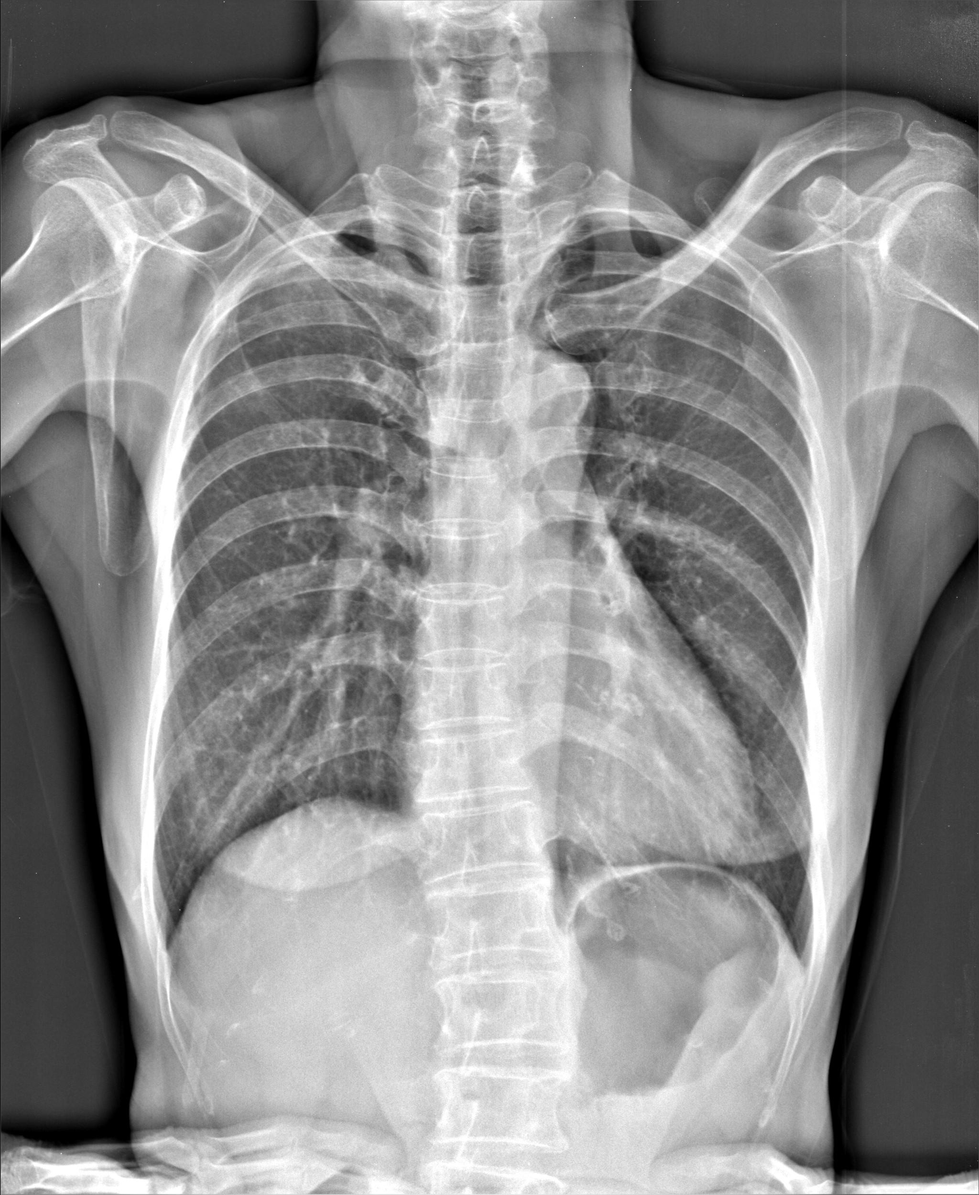Cardiomegaly: (394, 696, 758, 859)
